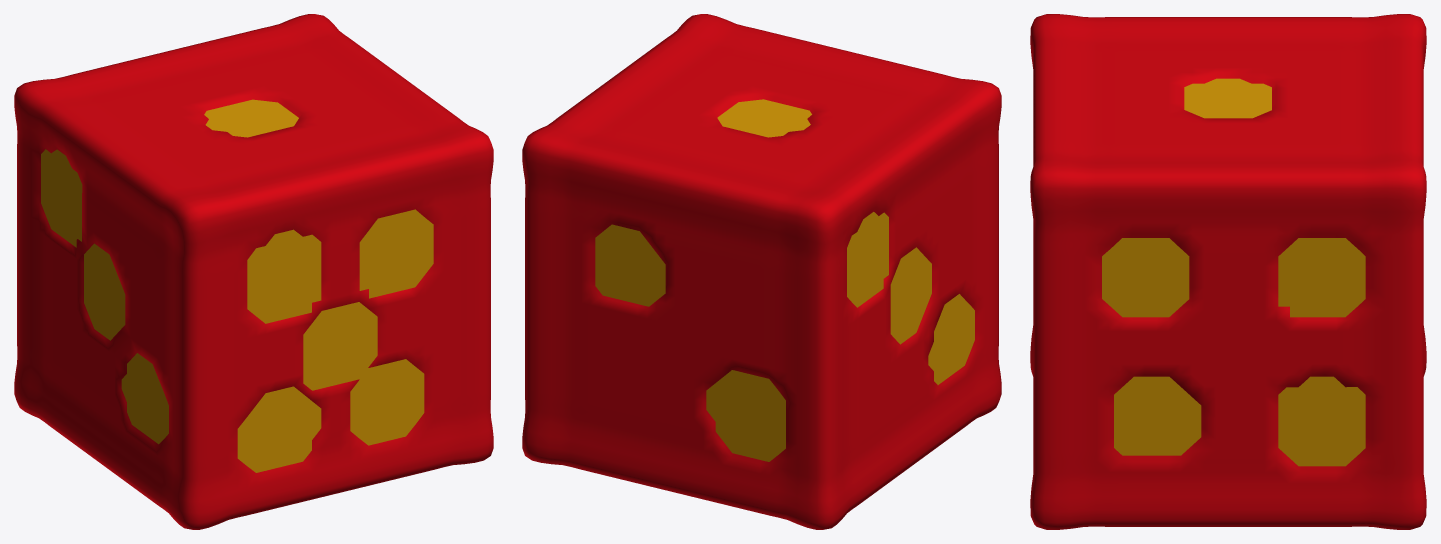
Rendered from DAE.dae.
3 renders of one model, left to right at view 1: azimuth 30°, elevation 25°; view 2: azimuth 150°, elevation 25°; view 3: azimuth 270°, elevation 25°, orthographic. The views are drawn at different scales.
Parts seen in each view (by area): view 1: HazeciKostkaLava; view 2: HazeciKostkaLava; view 3: HazeciKostkaLava.
Part boxes in pixels (x1,y1,x2,y2): HazeciKostkaLava: (14, 14, 493, 529); HazeciKostkaLava: (522, 14, 1001, 529); HazeciKostkaLava: (1030, 14, 1426, 529).
Size of the model in its own units: 1.08 by 1.08 by 1.08.
